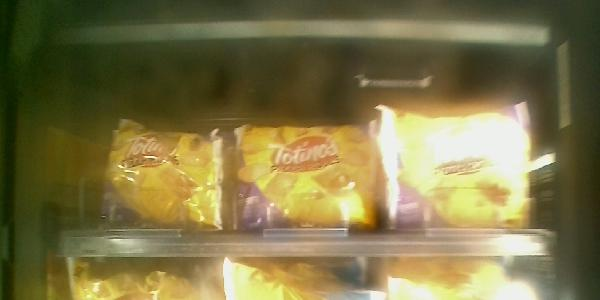icecream: (371, 98, 544, 230), (231, 120, 381, 233), (104, 113, 228, 233)
